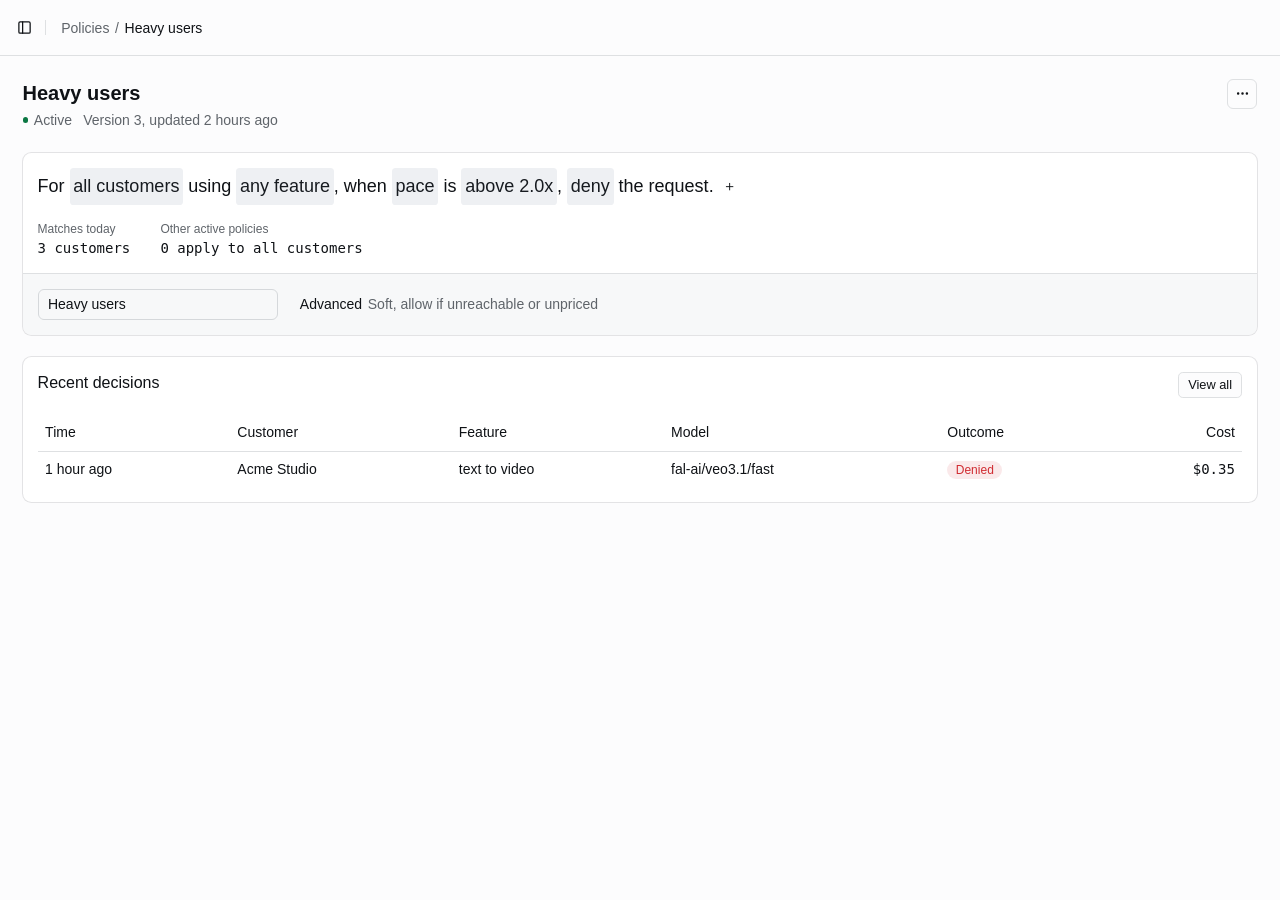
Test: Save patches the edited document without the status
This screenshot has width=1280, height=900.
Expected: the button "Save" is not shown
Click the button "deny": (590, 187) [567,168,614,206]
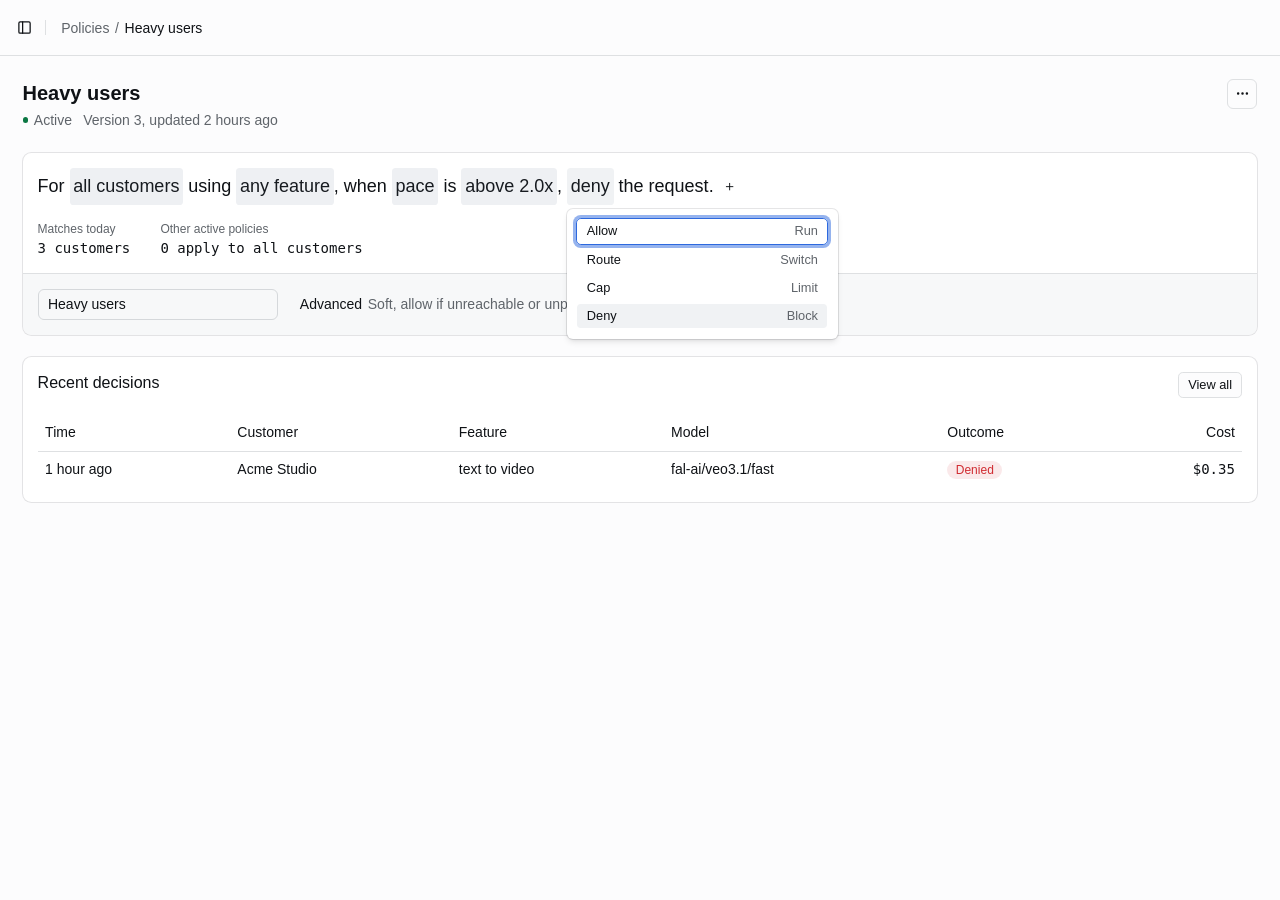
Click the button "Allow Run": (702, 232) [576,218,828,245]
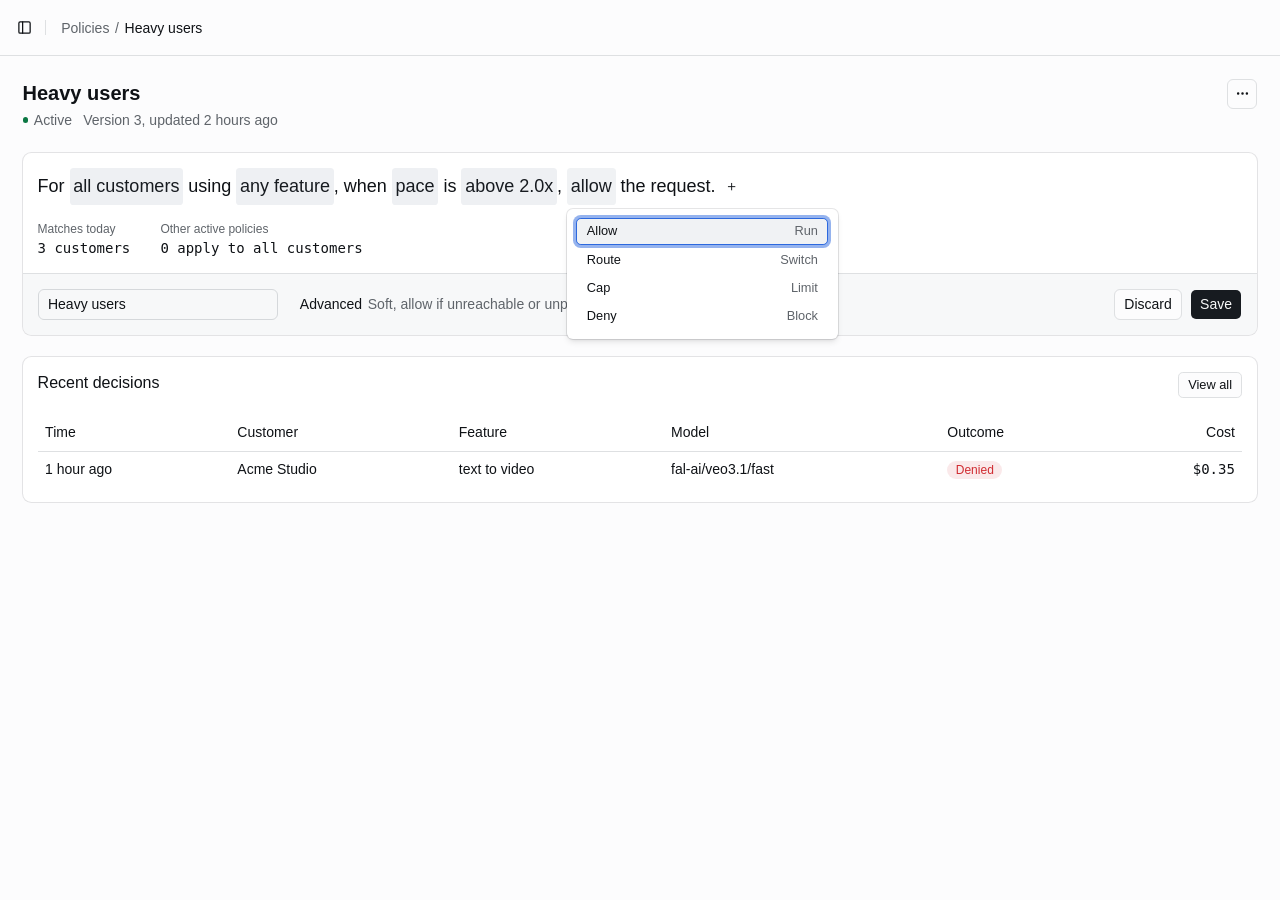
Press Escape
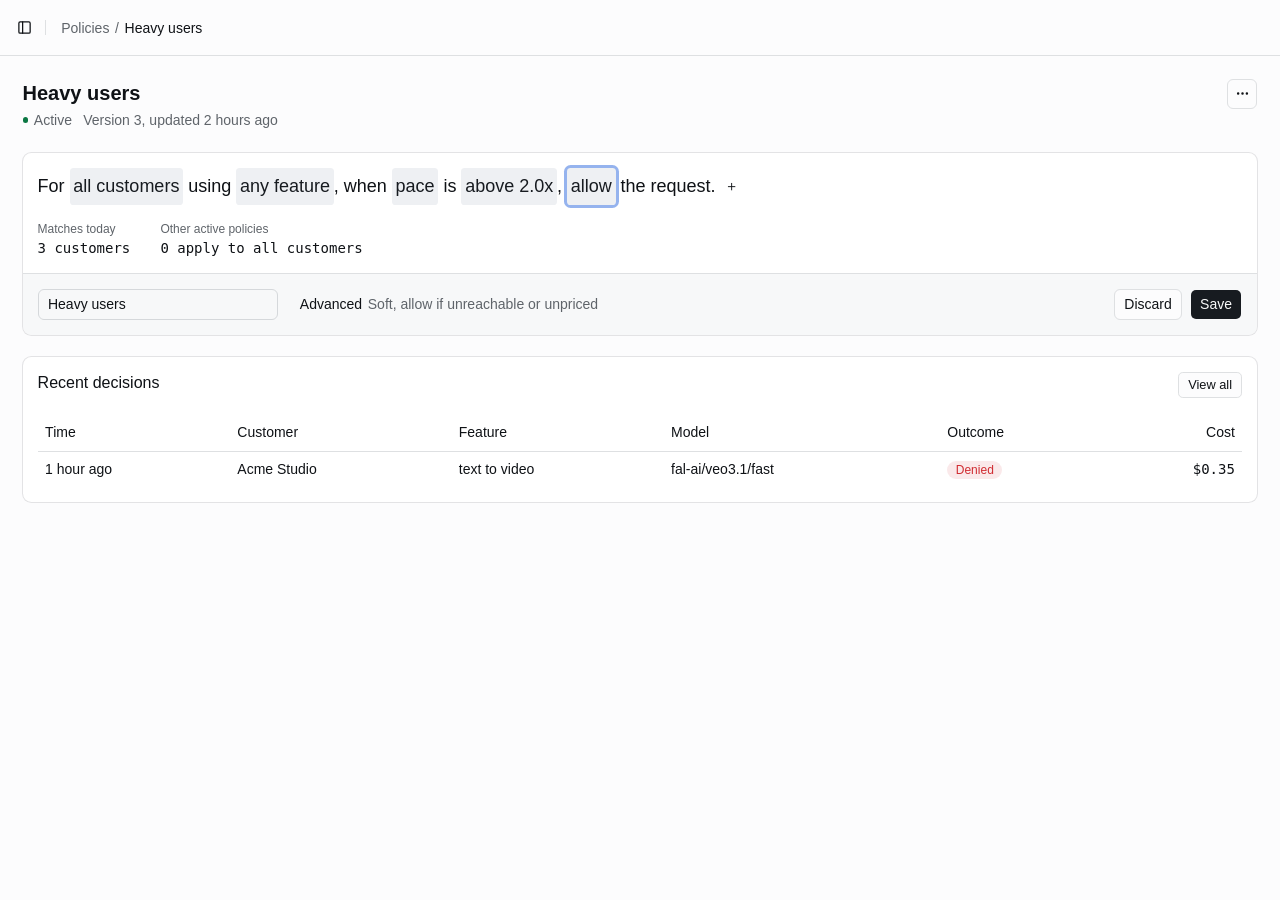
Click the button "Save": (1216, 304) [1190,289,1242,320]
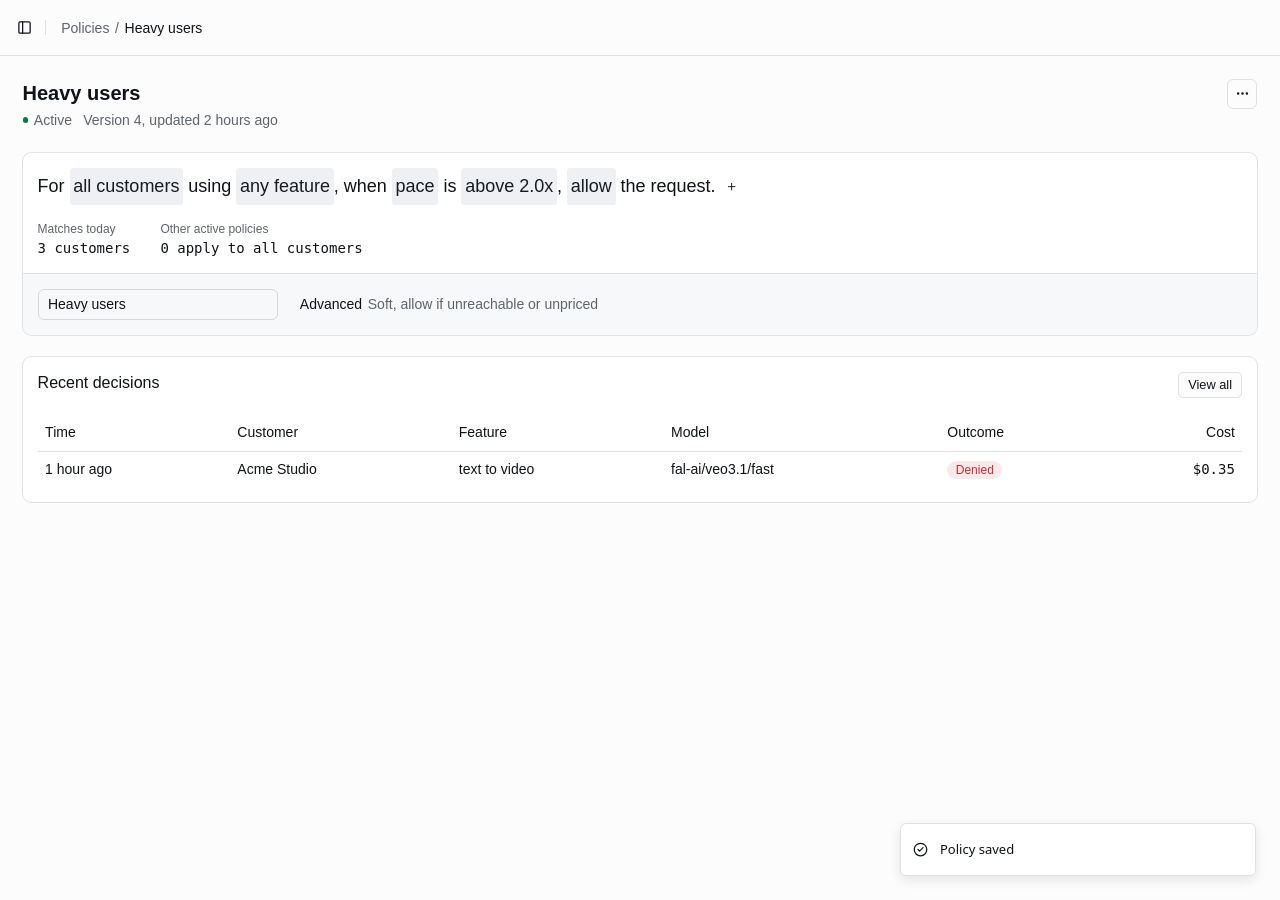
Expected: the text "Policy saved" is shown, [940,840,1014,859]
